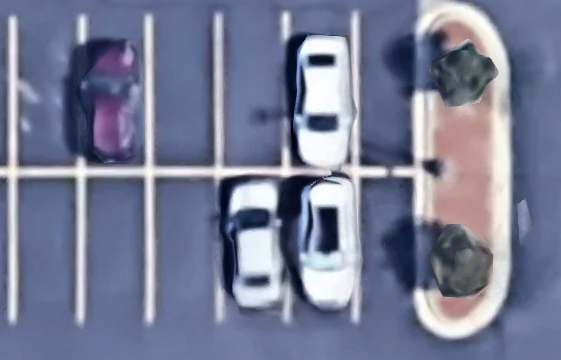Occupied: (285, 14, 355, 171), (81, 15, 148, 171), (287, 172, 356, 321), (219, 171, 286, 321)
Vacant: (147, 13, 219, 172), (13, 14, 82, 173), (218, 13, 286, 171), (150, 170, 220, 322), (80, 172, 150, 323), (12, 173, 79, 325), (356, 14, 420, 171), (356, 172, 421, 321)
